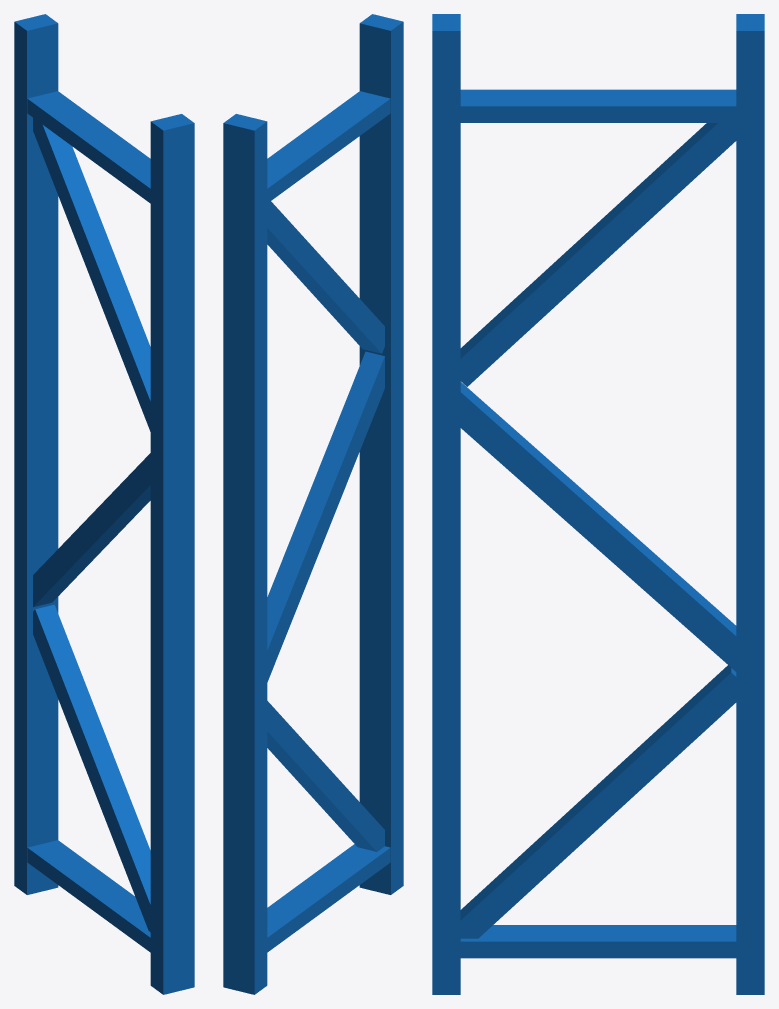
The model's file is Blue_Shelf.fbx.
The picture shows the model from 3 angles, left to right: view 1: azimuth 30°, elevation 25°; view 2: azimuth 150°, elevation 25°; view 3: azimuth 270°, elevation 25°; orthographic projection. The views are drawn at different scales.
Parts seen in each view (by area): view 1: Cube.008; view 2: Cube.008; view 3: Cube.008.
Boxes of the visible parts, <box> form: Cube.008: <box>14,14,194,994</box>; Cube.008: <box>223,14,403,994</box>; Cube.008: <box>432,14,764,994</box>.
Size of the model in its own units: 98.67 by 2614 by 817.
